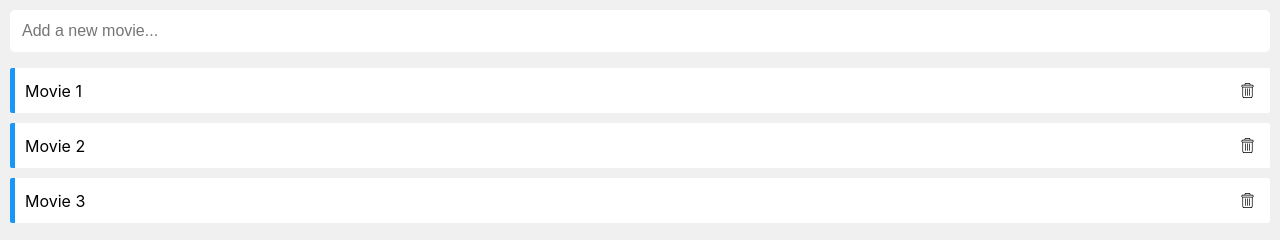
Scenario: App component › When a movie is deleted › it is removed from the list
The image size is (1280, 240).
Step 1. Click the button without text in the row of "Movie 1" → (1248, 90), box x1=1235 y1=78 x2=1260 y2=103
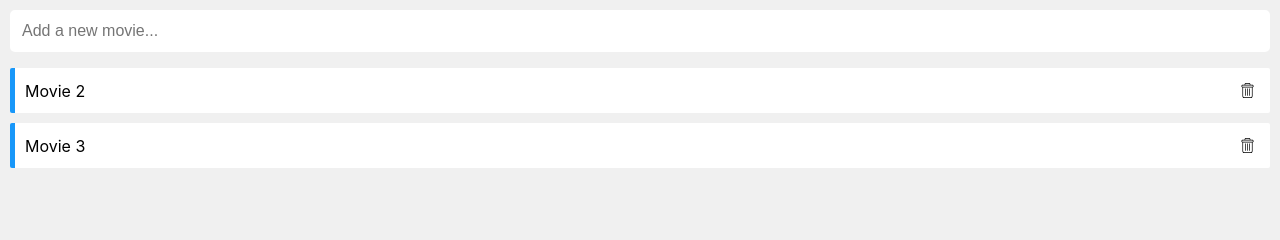
Result: the list item "Movie 1" is gone
